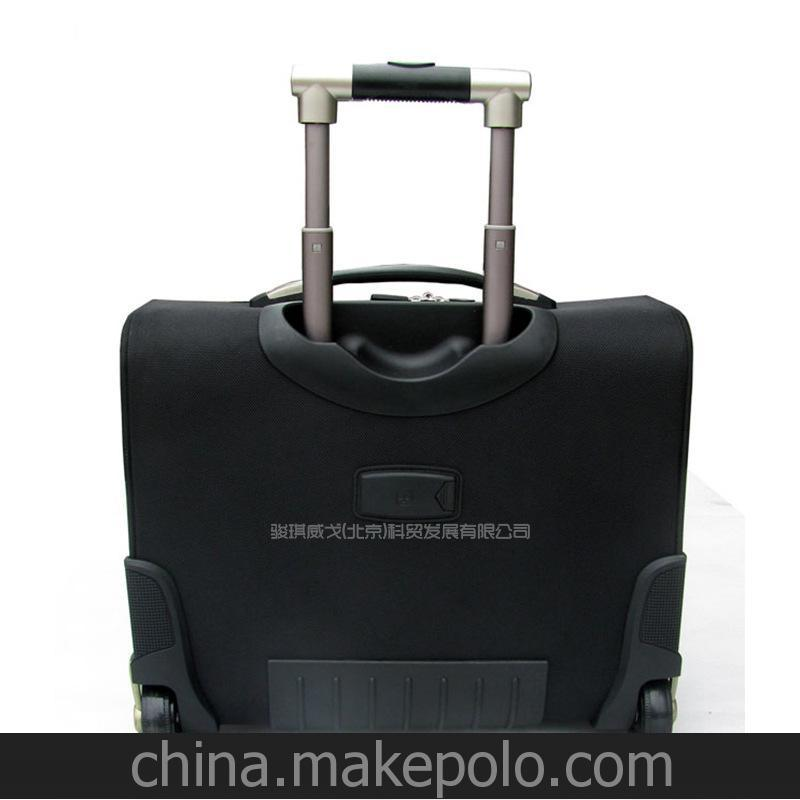luggage: (120, 59, 695, 734)
